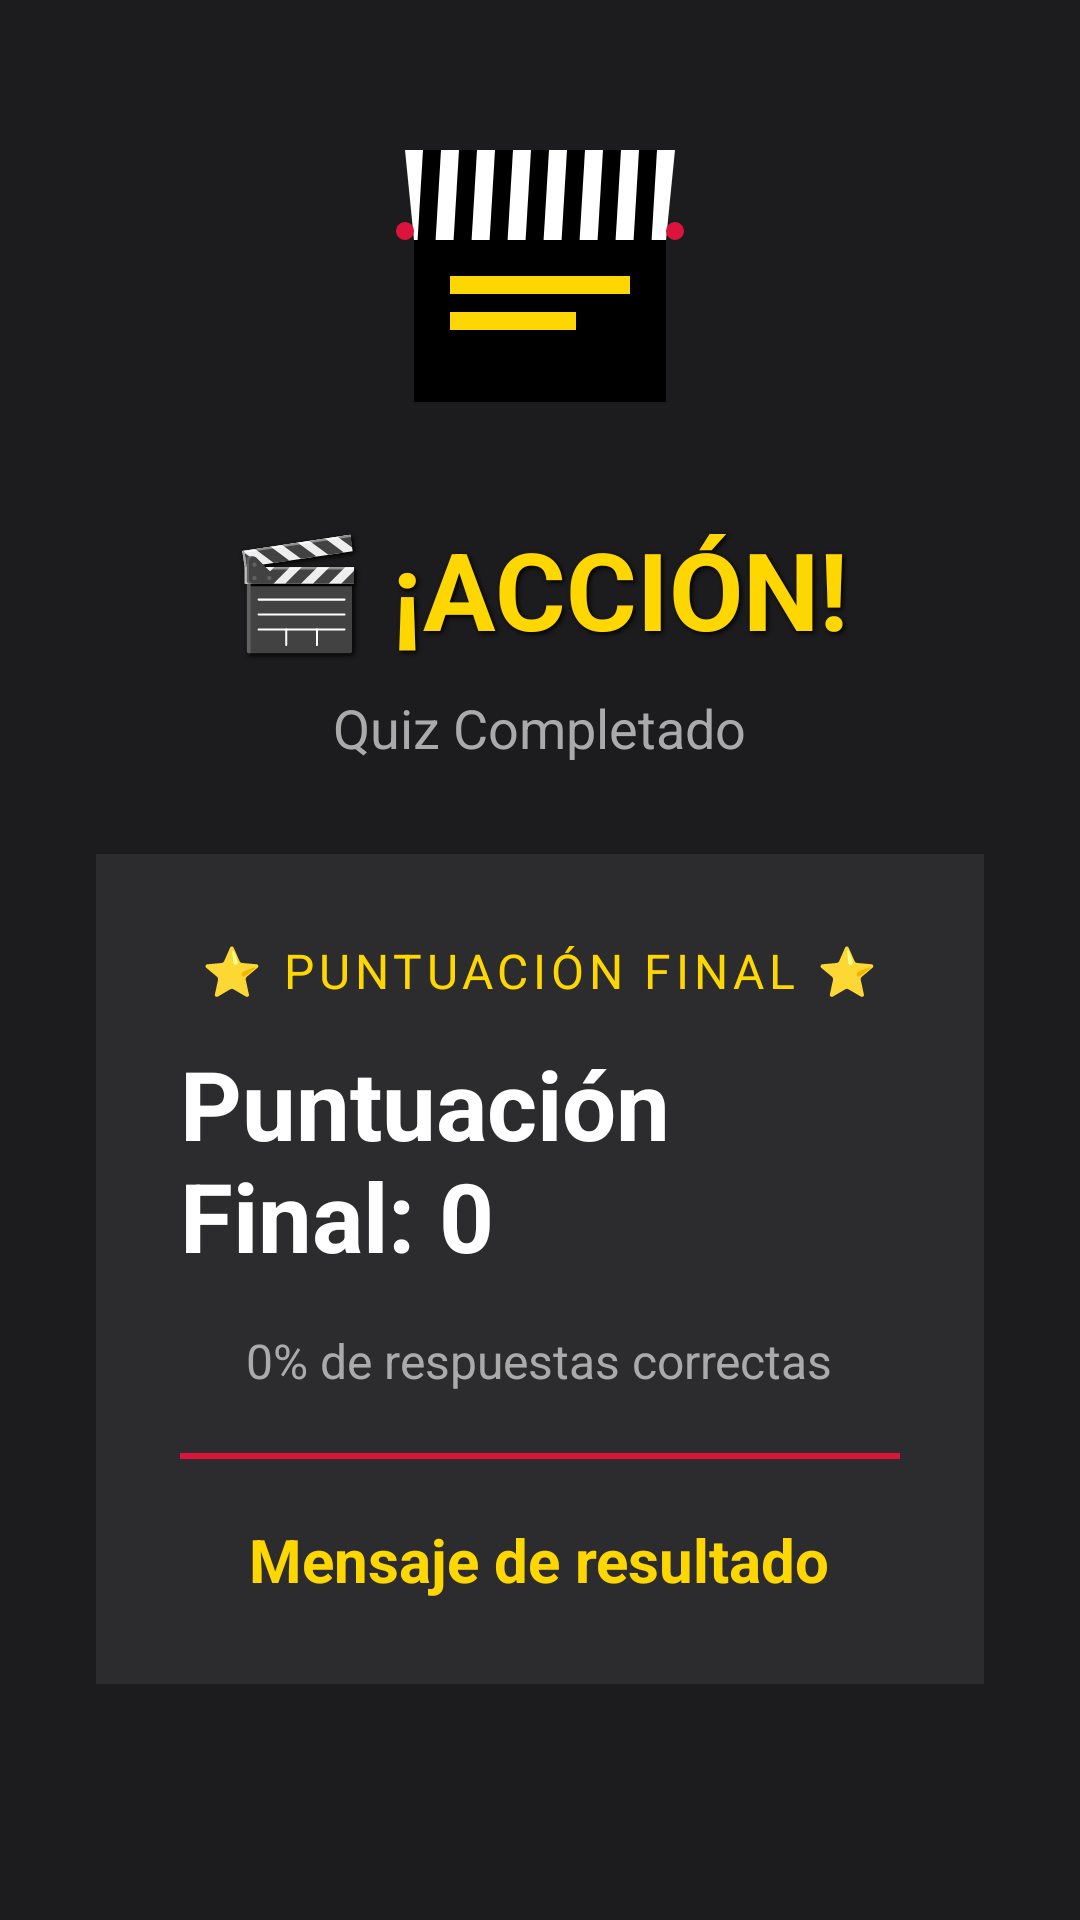

Icon bounding boxes for this 1080px×1920px phone screenshot, format (x1, y1, x2, y2):
Clapperboard: (396, 150, 684, 402)
